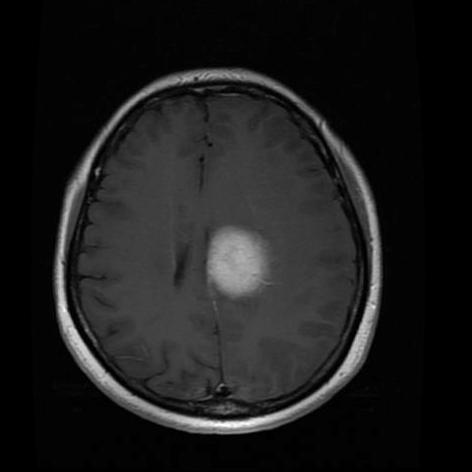Tumour-Meningioma: (157, 199, 295, 332)
